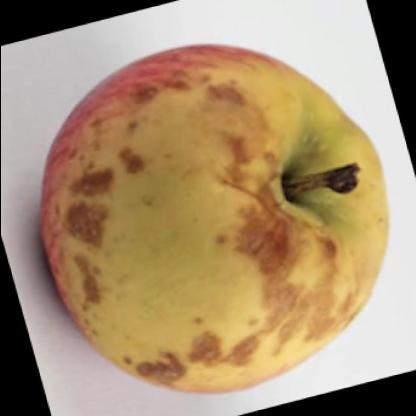defect: (145, 154, 305, 402), (74, 50, 247, 140), (52, 160, 130, 318)
